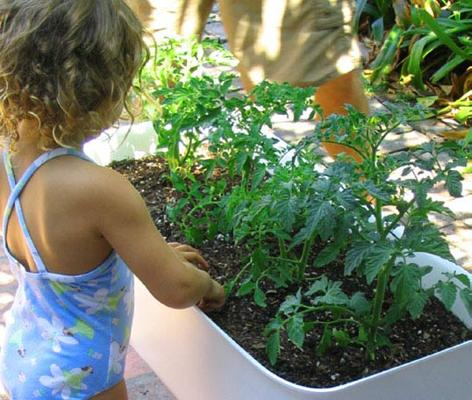person: (2, 1, 230, 400)
